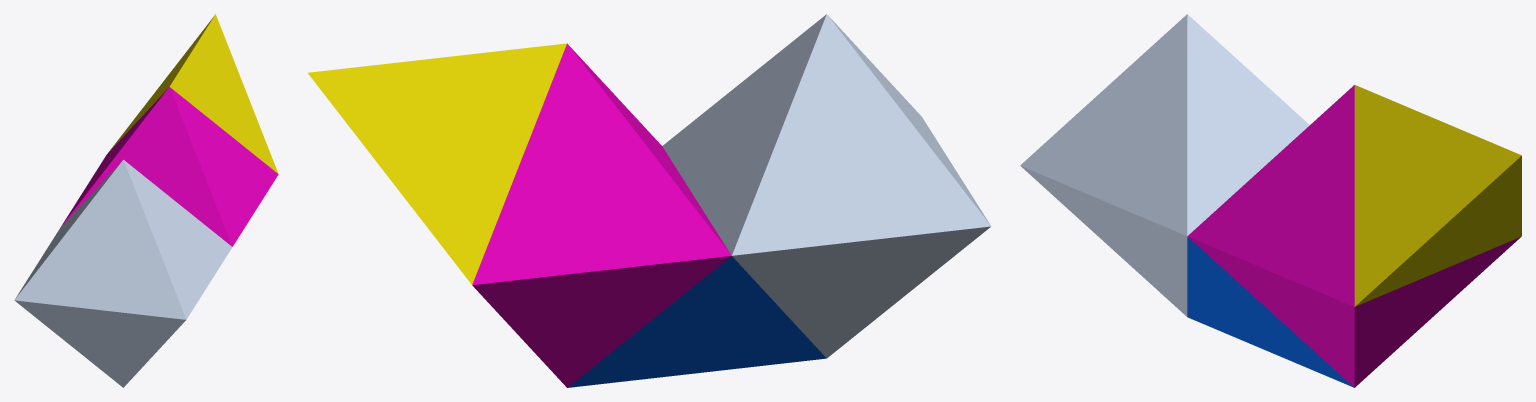
The model's file is octTet_6.glb.
3 views of the same model, side by side, from view 1: azimuth 30°, elevation 25°; view 2: azimuth 150°, elevation 25°; view 3: azimuth 270°, elevation 25° (orthographic). The views are drawn at different scales.
Size of the model in its own units: 6 by 4 by 6.
